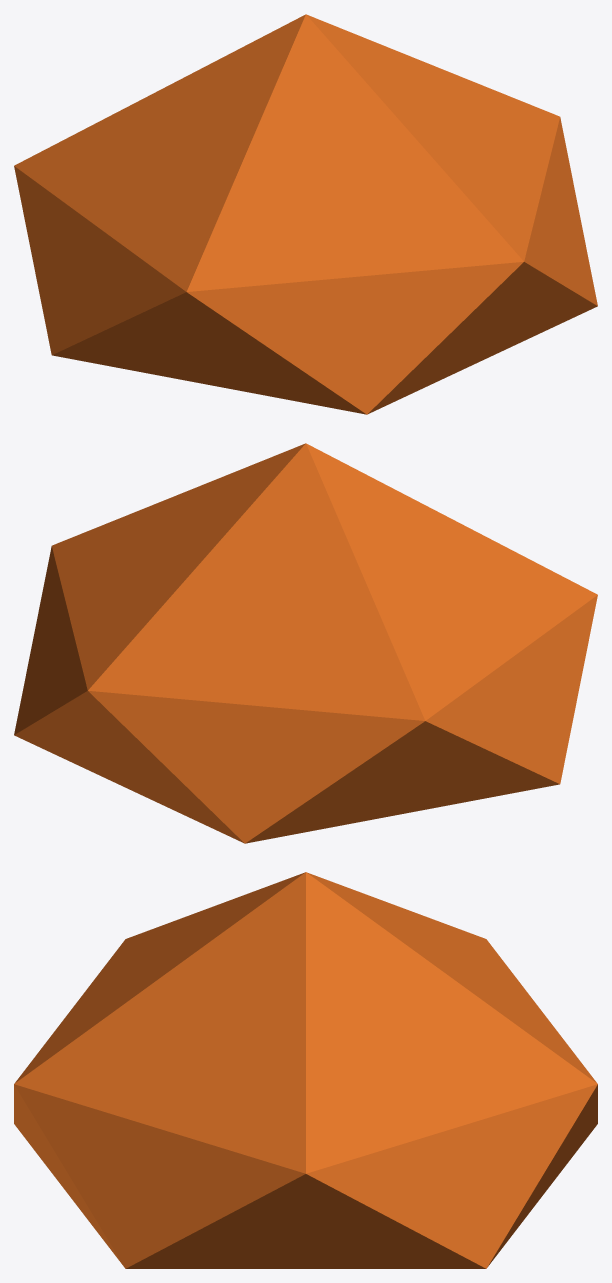
The model's file is Shrub02.fbx.
3 views of the same model, one above another, from view 1: azimuth 30°, elevation 25°; view 2: azimuth 150°, elevation 25°; view 3: azimuth 270°, elevation 25° (orthographic). The views are drawn at different scales.
Visible parts, largest first — view 1: Icosphere; view 2: Icosphere; view 3: Icosphere.
Part boxes in pixels (left/top/right/bottom): Icosphere: left=14, top=14, right=597, bottom=414; Icosphere: left=14, top=443, right=597, bottom=843; Icosphere: left=14, top=872, right=597, bottom=1268.
Bounding box in the file's own units: 179 × 125 × 170.
